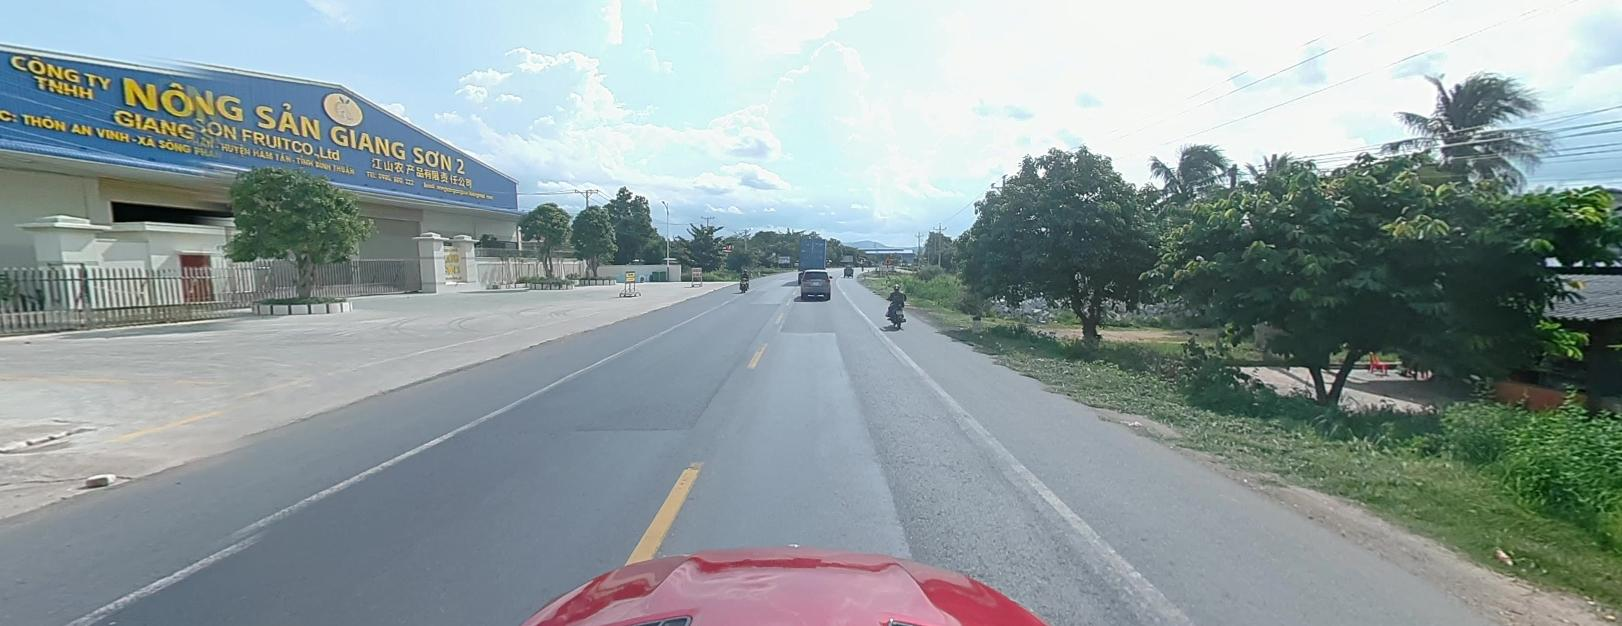Nguy hiem: (882, 255, 891, 262)
